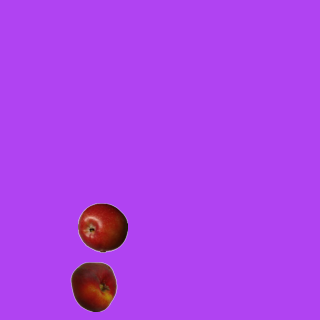Apple Braeburn: (77, 202, 127, 252)
Nectarine Flat: (68, 261, 118, 311)
